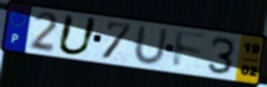2: (28, 10, 60, 54)
3: (207, 36, 237, 76)
7: (102, 20, 133, 61)
F: (172, 28, 209, 70)
U: (55, 13, 101, 57), (132, 25, 170, 67)
